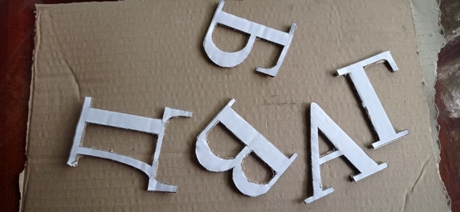a: (304, 101, 389, 205)
b: (202, 1, 297, 78)
d: (66, 95, 194, 196)
g: (334, 50, 409, 151)
v: (196, 97, 299, 200)
